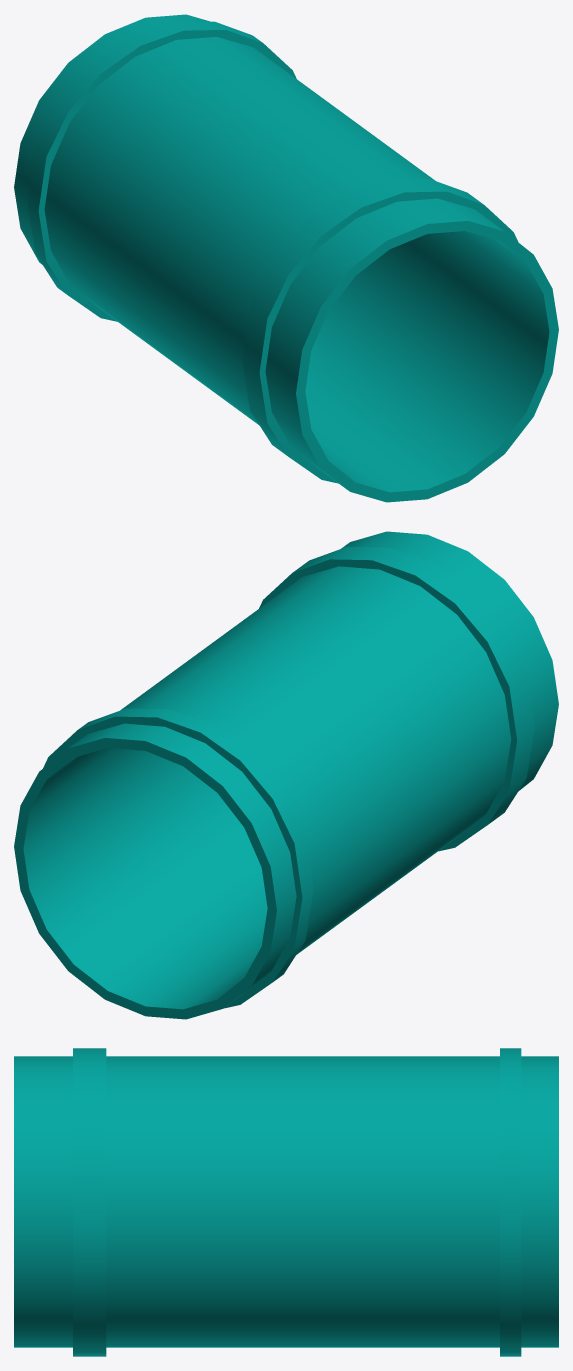
File: En_W_vent.fbx
3 renders of one model, top to bottom at view 1: azimuth 30°, elevation 25°; view 2: azimuth 150°, elevation 25°; view 3: azimuth 270°, elevation 25°, orthographic. The views are drawn at different scales.
Parts seen in each view (by area): view 1: En_W_vent; view 2: En_W_vent; view 3: En_W_vent.
Part boxes in pixels (x1=…): En_W_vent: x1=14, y1=14, x2=558, y2=502; En_W_vent: x1=14, y1=531, x2=558, y2=1019; En_W_vent: x1=14, y1=1048, x2=558, y2=1356.
Size of the model in its own units: 227 by 227 by 400.
